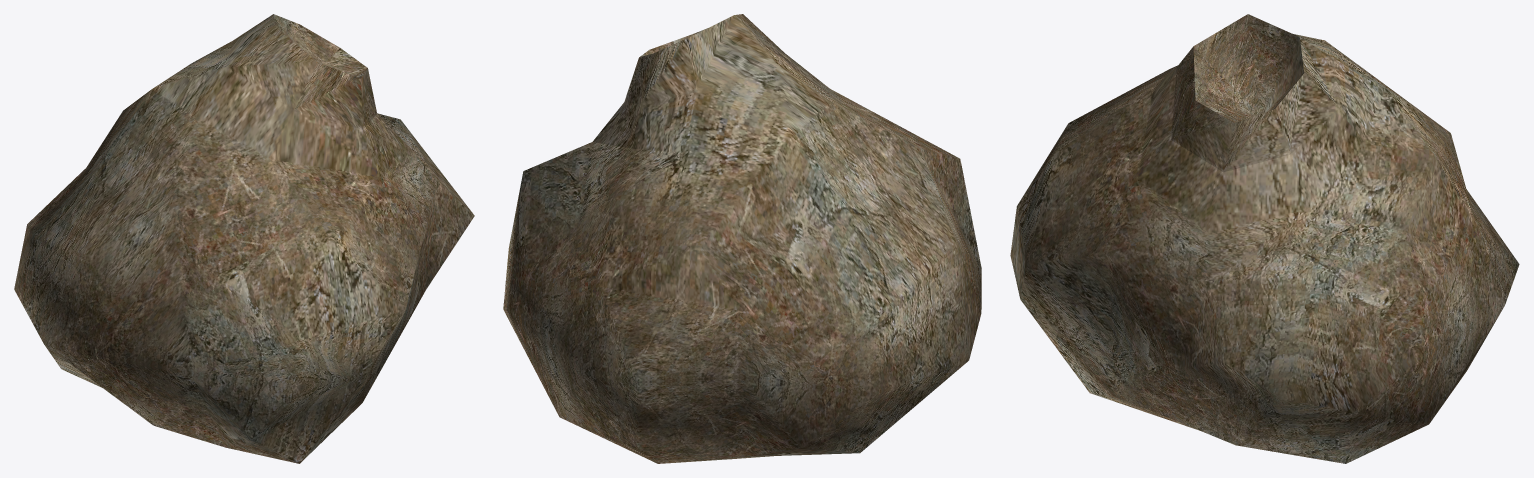
File: poi_all_lair_mound_small_l2.fbx
3 renders of one model, left to right at view 1: azimuth 30°, elevation 25°; view 2: azimuth 150°, elevation 25°; view 3: azimuth 270°, elevation 25°, orthographic. The views are drawn at different scales.
Visible parts, largest first — view 1: mesh_node; view 2: mesh_node; view 3: mesh_node.
Part boxes in pixels (x1=…): mesh_node: x1=14, y1=14, x2=474, y2=463; mesh_node: x1=503, y1=14, x2=981, y2=463; mesh_node: x1=1010, y1=14, x2=1519, y2=463.
Size of the model in its own units: 2.47 by 2.16 by 2.37.
